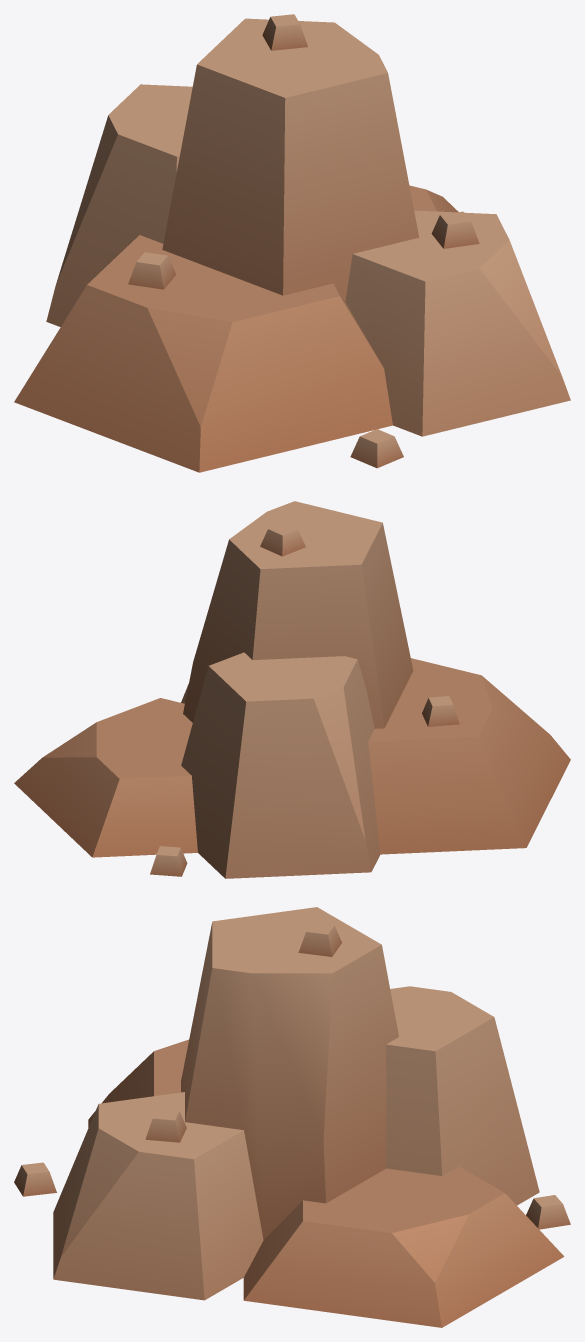
File: rock-sand-b.glb
3 views of the same model, one above another, from view 1: azimuth 30°, elevation 25°; view 2: azimuth 150°, elevation 25°; view 3: azimuth 270°, elevation 25° (orthographic). The views are drawn at different scales.
Visible parts, largest first — view 1: rock-sand-b; view 2: rock-sand-b; view 3: rock-sand-b.
Part boxes in pixels (x1=…): rock-sand-b: x1=14, y1=14, x2=570, y2=472; rock-sand-b: x1=14, y1=501, x2=570, y2=878; rock-sand-b: x1=14, y1=907, x2=570, y2=1327.
Bounding box in the file's own units: 0.7991 × 0.4486 × 0.7895.
